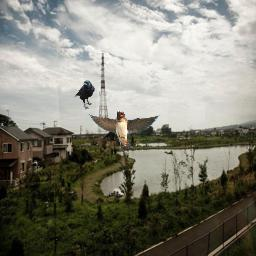Crow: (72, 79, 95, 110)
Swallow: (85, 110, 160, 152)
